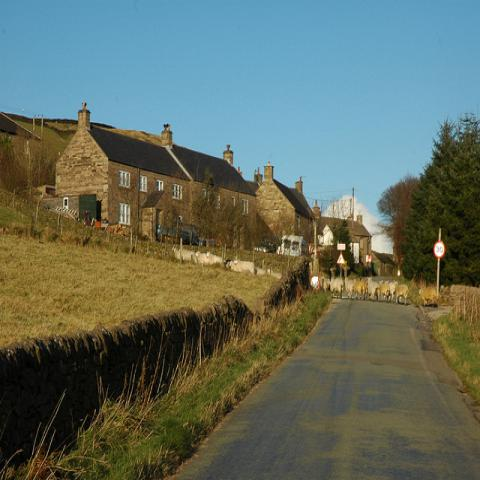bus: (280, 235, 310, 256)
